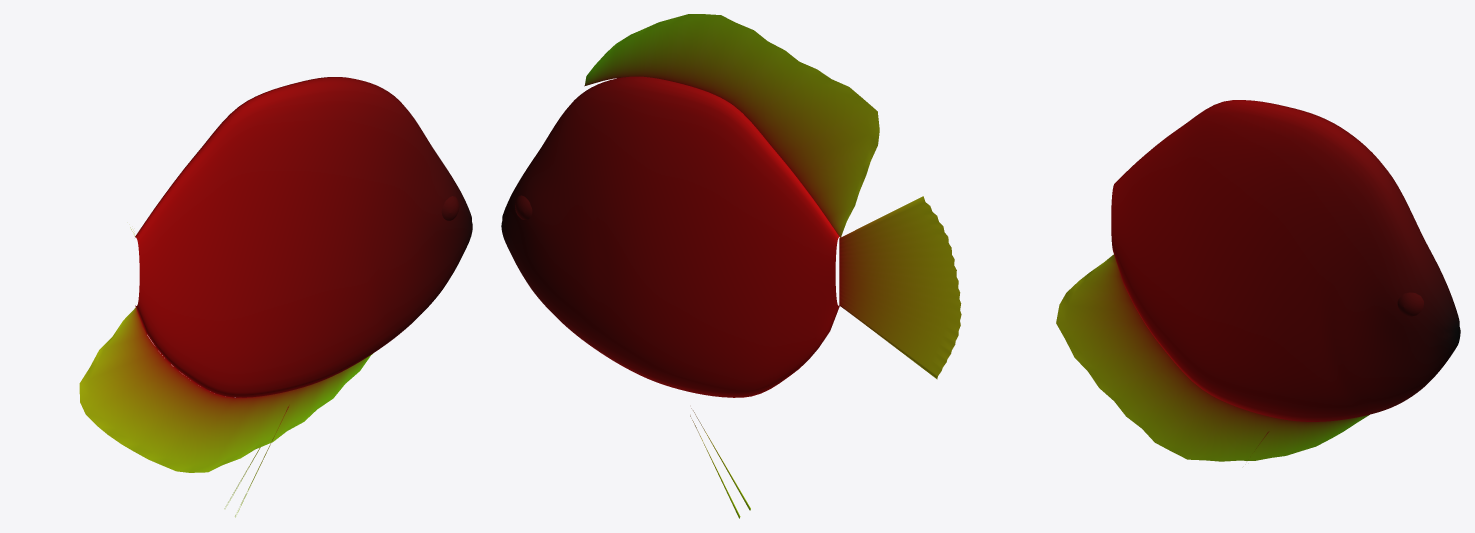
File: discus.glb
The picture shows the model from 3 angles, left to right: view 1: azimuth 30°, elevation 25°; view 2: azimuth 150°, elevation 25°; view 3: azimuth 330°, elevation 25°; orthographic projection. The views are drawn at different scales.
Visible parts, largest first — view 1: body; view 2: body; view 3: body.
Part boxes in pixels (<box>): body: <box>79,77,472,517</box>; body: <box>501,14,961,518</box>; body: <box>1056,100,1460,461</box>.
Size of the model in its own units: 0.2003 by 0.2067 by 0.0251.
